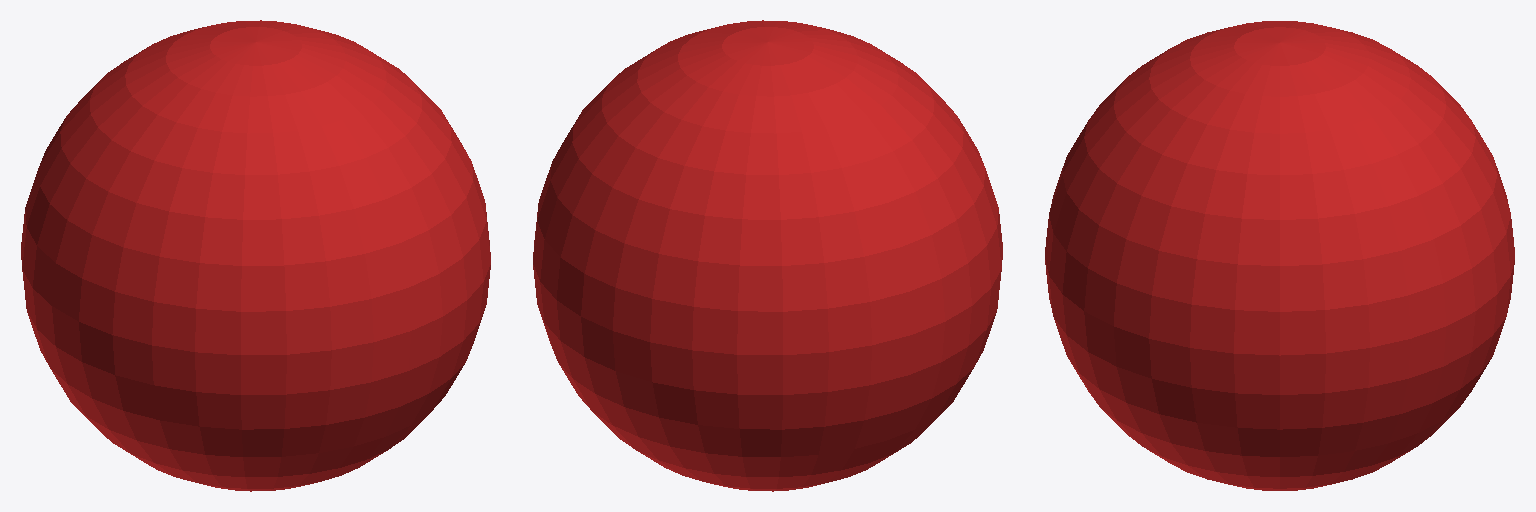
The robot description file, URDF, robot "target":
<robot name="target">

  <material name="red">
    <color rgba="0.8 0.2 0.2 1."/>
  </material>

  <link name="base_link">
    <visual>
      <origin xyz="0. 0. 0." rpy="0. 0. 0." />
      <geometry>  
        <sphere radius="0.04"/>
      </geometry>
      <material name="red" />
    </visual>
    <collision>
      <origin rpy="0 0 0" xyz="0 0 0"/>
      <geometry>
	 	<sphere radius="0.04"/>
      </geometry>
    </collision>
    <inertial>
        <origin xyz="0. 0. 0." rpy="0. 0. 0." />
        <inertia ixz="0.0" ixy="0.0" iyz="0.0" ixx="1.e-2" izz="1.e-2"  iyy="1.e-2" />
        <mass value="0.01" />
    </inertial>
  </link>

</robot>

--- Render facts (derived) ---
Views: 3 orthographic renders of the robot side by side, from view 1: azimuth 30°, elevation 25°; view 2: azimuth 150°, elevation 25°; view 3: azimuth 270°, elevation 25°.
Robot: target — 1 links, 0 joints (none); root link base_link; default pose: all joints at 0.
Visible links, largest first — view 1: base_link; view 2: base_link; view 3: base_link.
Link boxes in pixels (bbox=[...]): base_link: bbox=[21, 20, 490, 491]; base_link: bbox=[533, 20, 1002, 491]; base_link: bbox=[1045, 21, 1514, 490].
Size in the robot's own frame: 0.08 by 0.08 by 0.08 metres.
Geometry: primitives only (box / cylinder / sphere), no mesh files.